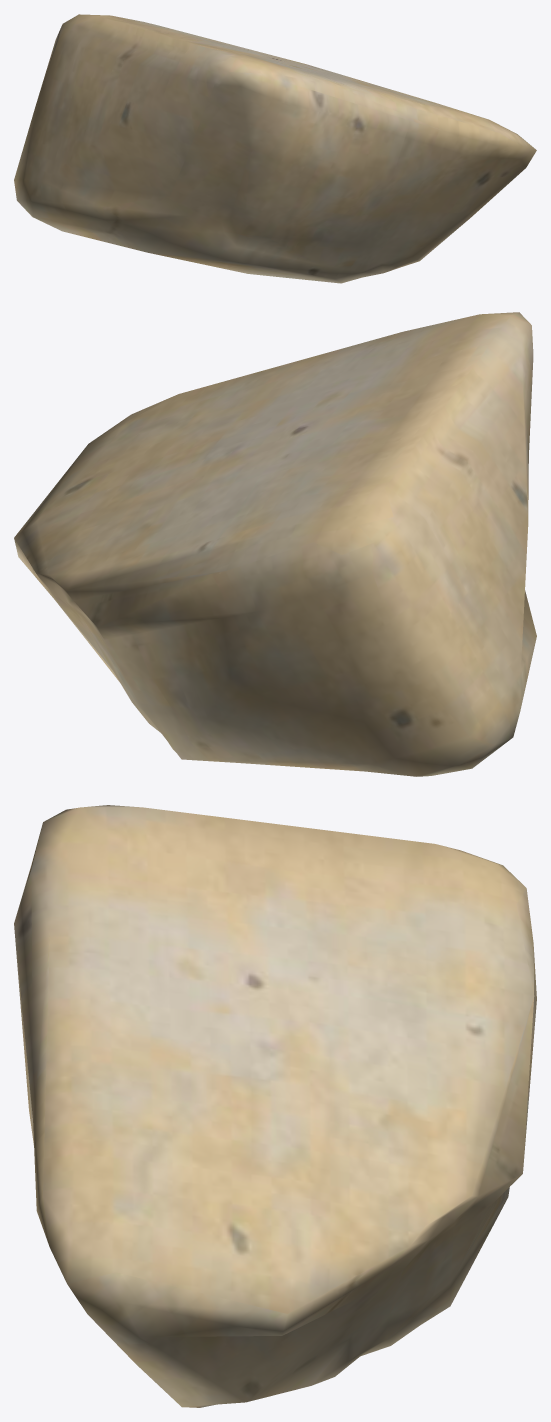
The model's file is lo_fall_s.glb.
3 views of the same model, one above another, from view 1: azimuth 30°, elevation 25°; view 2: azimuth 150°, elevation 25°; view 3: azimuth 270°, elevation 25° (orthographic). The views are drawn at different scales.
Visible parts, largest first — view 1: lo_fall_s; view 2: lo_fall_s; view 3: lo_fall_s.
Boxes of the visible parts, left/top/right/bottom form: lo_fall_s: left=14, top=14, right=536, bottom=283; lo_fall_s: left=14, top=312, right=536, bottom=776; lo_fall_s: left=14, top=805, right=536, bottom=1407.
Size of the model in its own units: 0.5687 by 0.3798 by 0.4106.
1 material, 1 textured.
